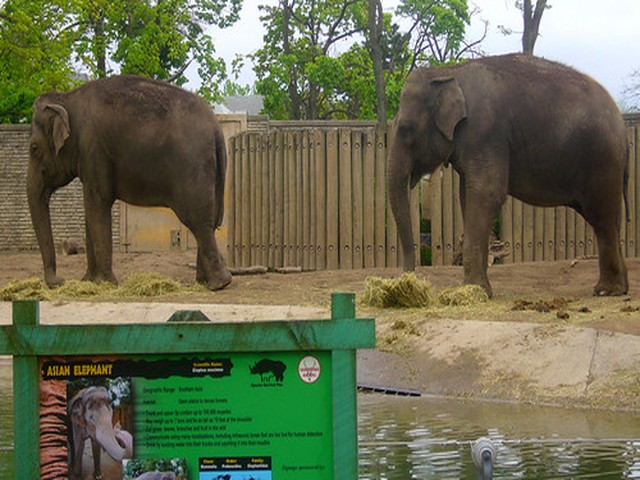Elephant: (385, 51, 637, 298), (22, 69, 236, 297)
